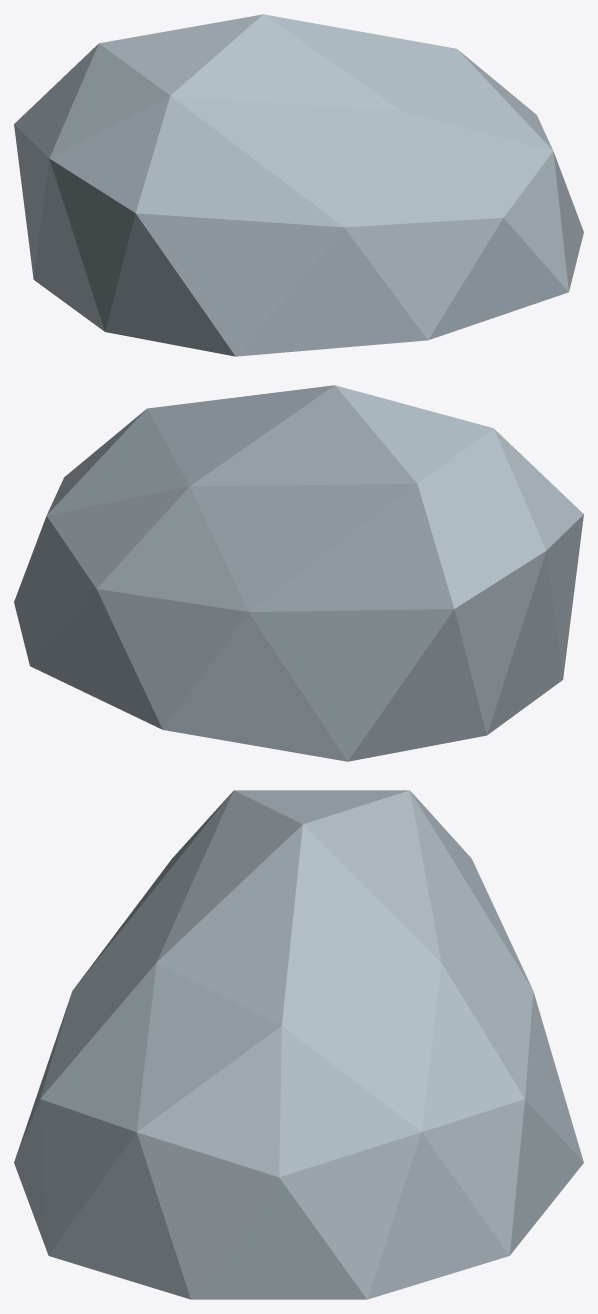
The model's file is Rock_10.fbx.
The picture shows the model from 3 angles, top to bottom: view 1: azimuth 30°, elevation 25°; view 2: azimuth 150°, elevation 25°; view 3: azimuth 270°, elevation 25°; orthographic projection. The views are drawn at different scales.
Parts seen in each view (by area): view 1: Icosphere; view 2: Icosphere; view 3: Icosphere.
Boxes of the visible parts, x1,y1,x2,y2 form: Icosphere: (14, 14, 583, 356); Icosphere: (14, 385, 583, 761); Icosphere: (14, 790, 583, 1299).
Bounding box in the file's own units: 3.03 × 1.51 × 2.52.
